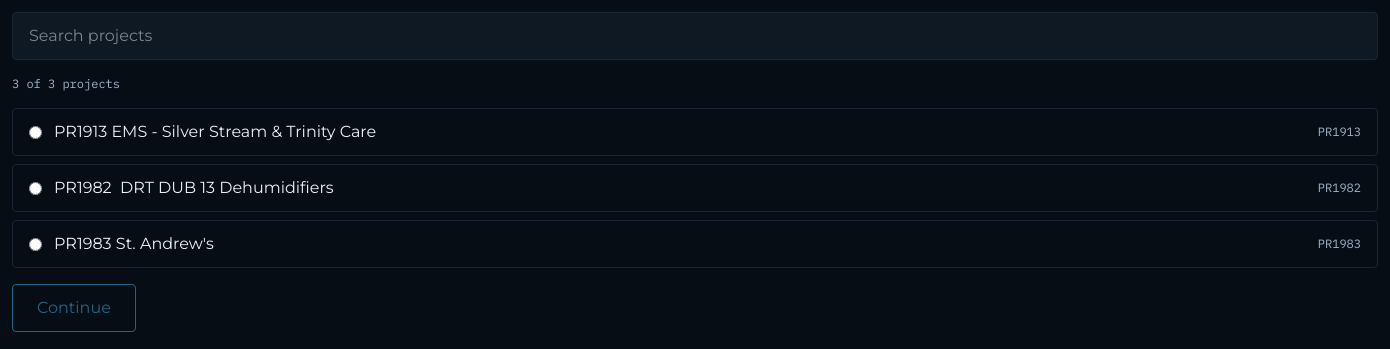
Test case: ProjectPicker search, stale and empty states › hides non-matching rows and shows the count when typing
Type "silver" into the search field labelled "Search projects" at (695, 36), box x1=12 y1=12 x2=1378 y2=60
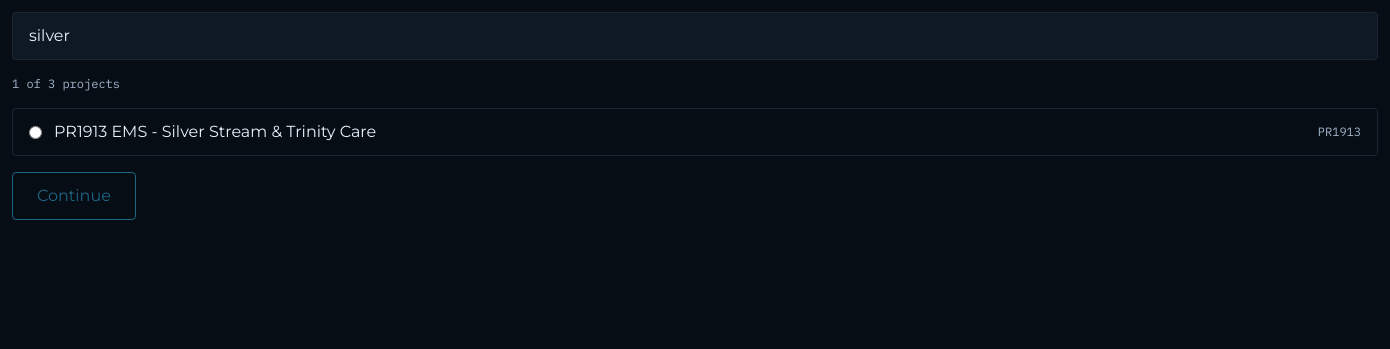
Result: the number of radio buttons is 1 at x1=29 y1=126 x2=42 y2=138
Result: the text "1 of 3 projects" is shown at x1=12 y1=76 x2=120 y2=91
